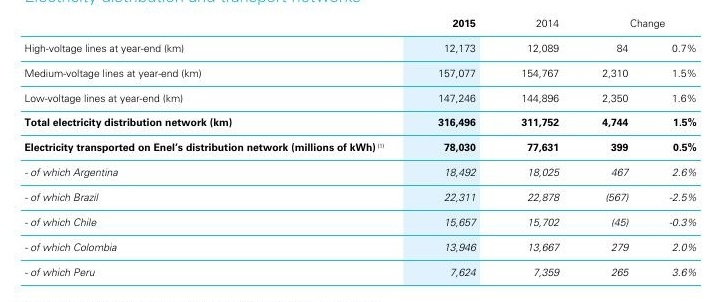table: (0, 0, 722, 302)
